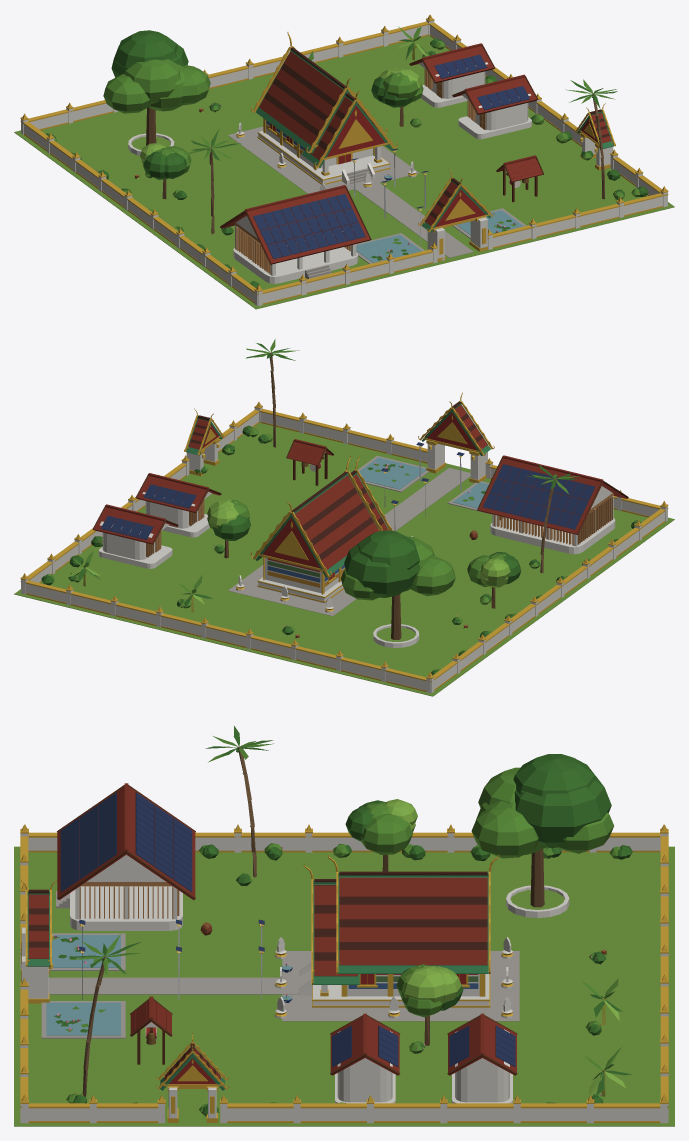
Rendered from temple_1.glb.
The picture shows the model from 3 angles, top to bottom: view 1: azimuth 30°, elevation 25°; view 2: azimuth 150°, elevation 25°; view 3: azimuth 270°, elevation 25°; orthographic projection. The views are drawn at different scales.
Parts seen in each view (by area): view 1: body; view 2: body; view 3: body.
Boxes of the visible parts, <box> form: body: <box>14,14,674,309</box>; body: <box>14,339,674,696</box>; body: <box>14,726,674,1126</box>.
Bounding box in the file's own units: 47.9 × 12.13 × 47.9.
